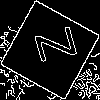Z: (25, 25, 77, 67)
